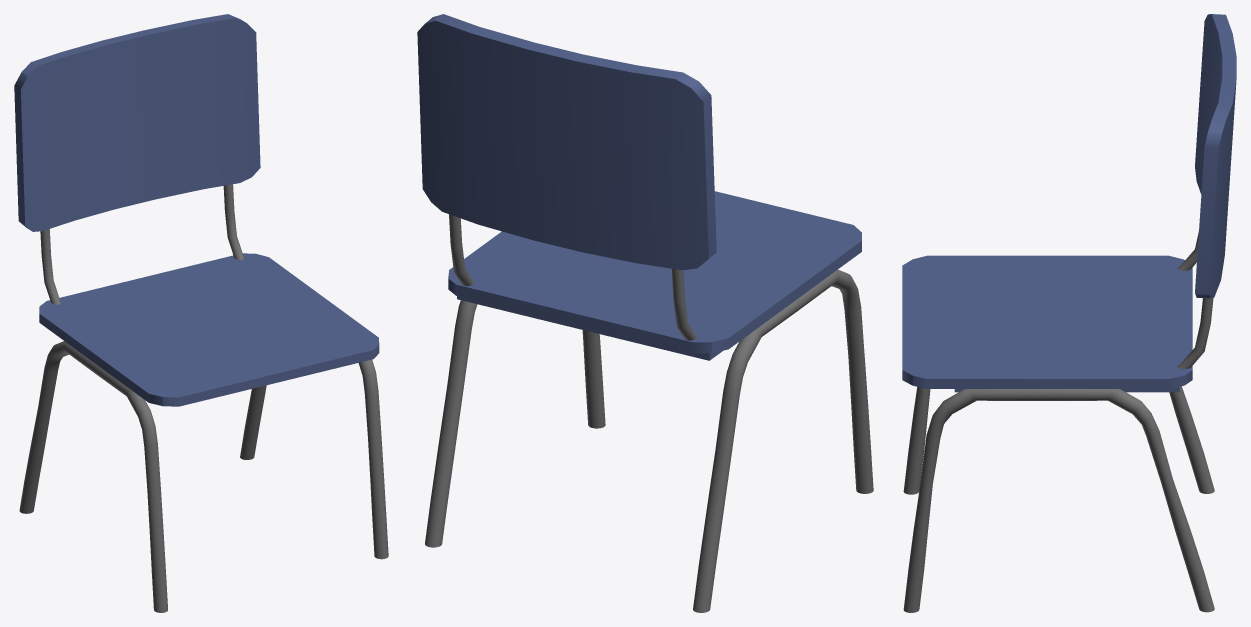
Rendered from CafeteriaChairModel.fbx.
3 views of the same model, side by side, from view 1: azimuth 30°, elevation 25°; view 2: azimuth 150°, elevation 25°; view 3: azimuth 270°, elevation 25° (orthographic). The views are drawn at different scales.
Parts seen in each view (by area): view 1: pTorus7; view 2: pTorus7; view 3: pTorus7.
Part boxes in pixels (x1,y1,x2,y2): pTorus7: [14, 14, 388, 612]; pTorus7: [417, 14, 873, 612]; pTorus7: [902, 14, 1236, 612].
Bounding box in the file's own units: 1.89 × 3.39 × 2.12.
